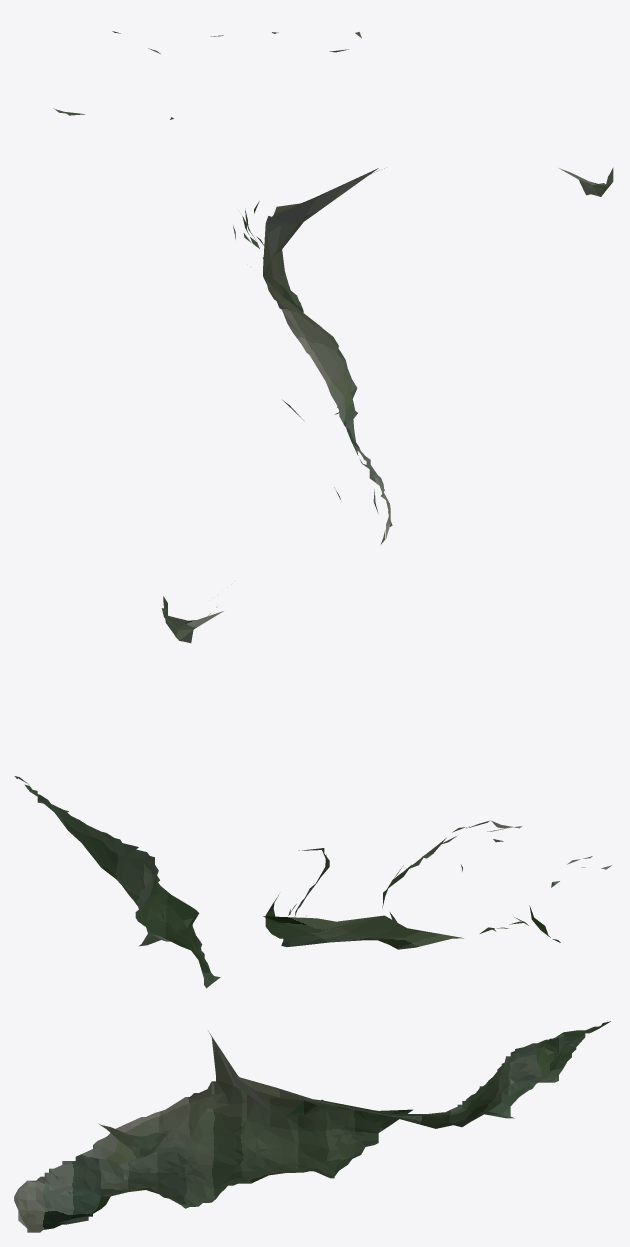
3 renders of one model, top to bottom at view 1: azimuth 30°, elevation 25°; view 2: azimuth 150°, elevation 25°; view 3: azimuth 270°, elevation 25°, orthographic. The views are drawn at different scales.
Bounding box in the file's own units: 0.1231 × 0.1039 × 0.2635.
Materials: 1 (1 with a texture image).
